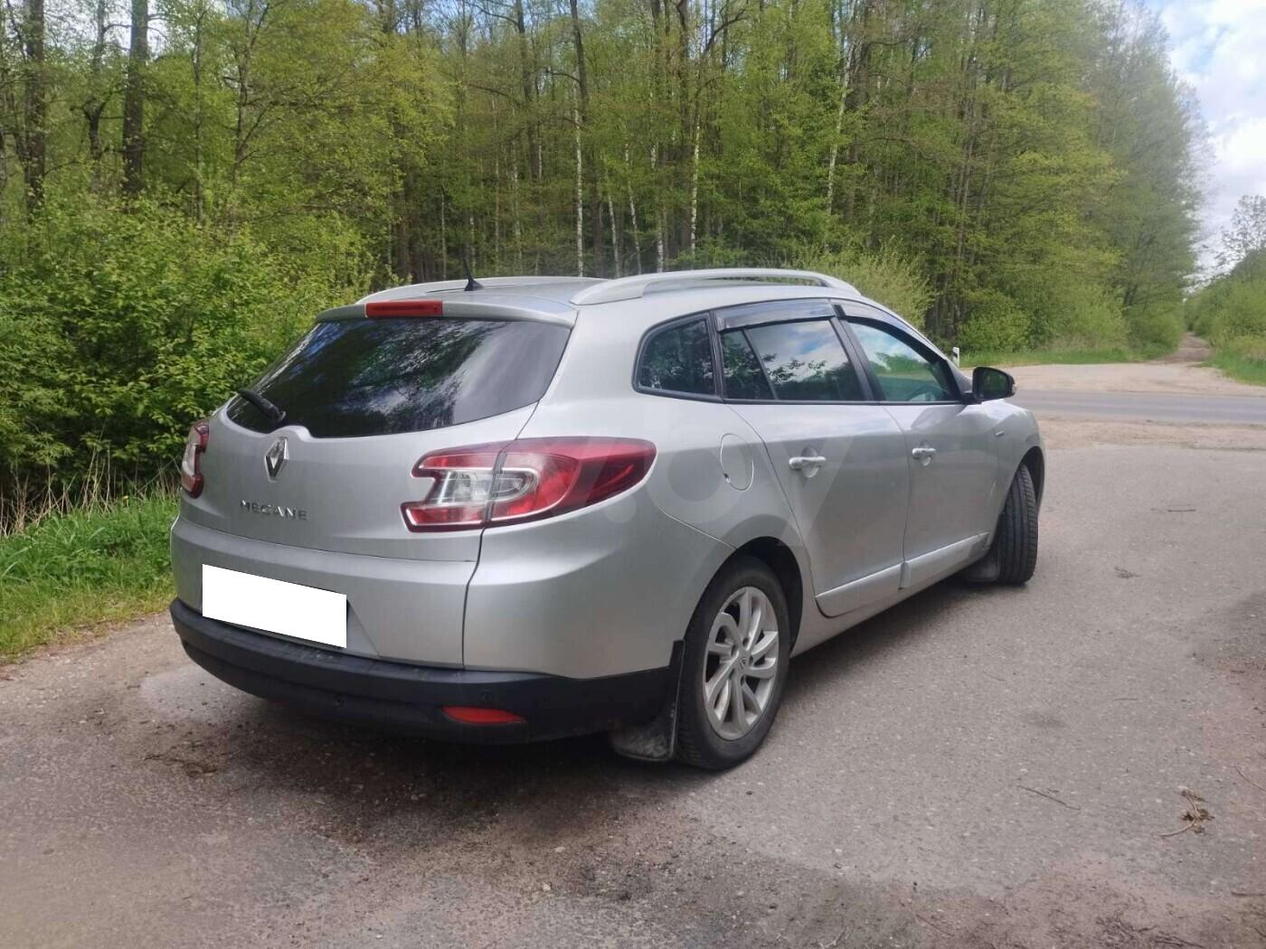Megane_2014-2016: (150, 271, 1058, 780)
